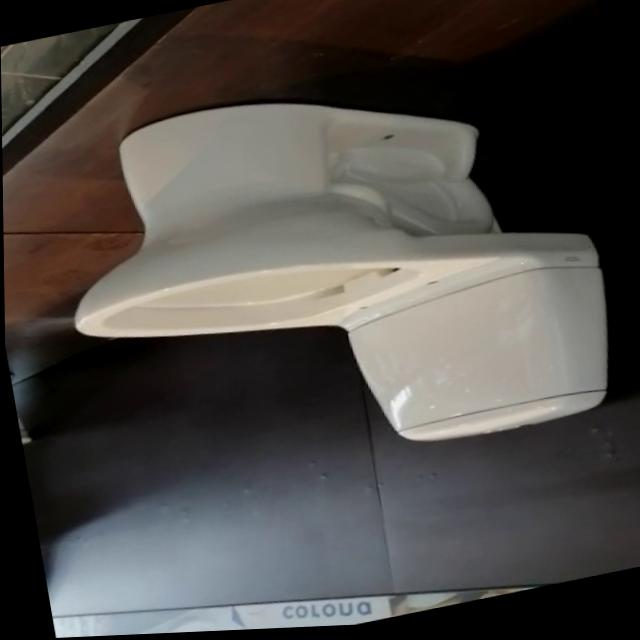toilet: (39, 39, 626, 517)
